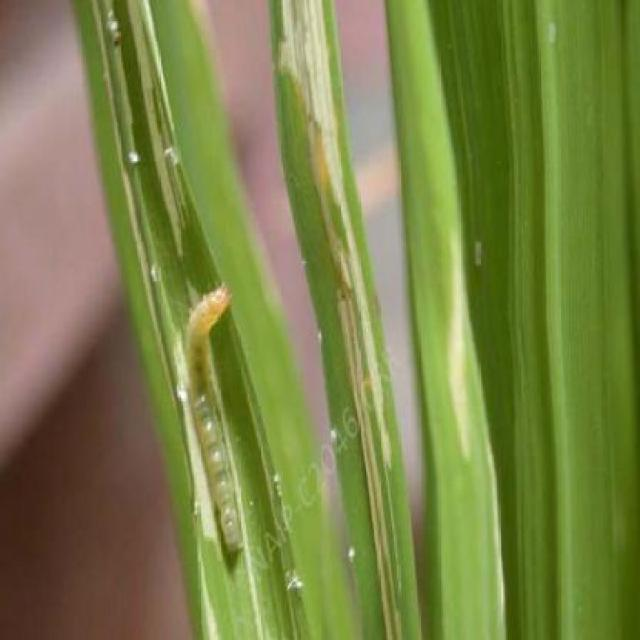leaf-folder: (174, 256, 258, 564)
